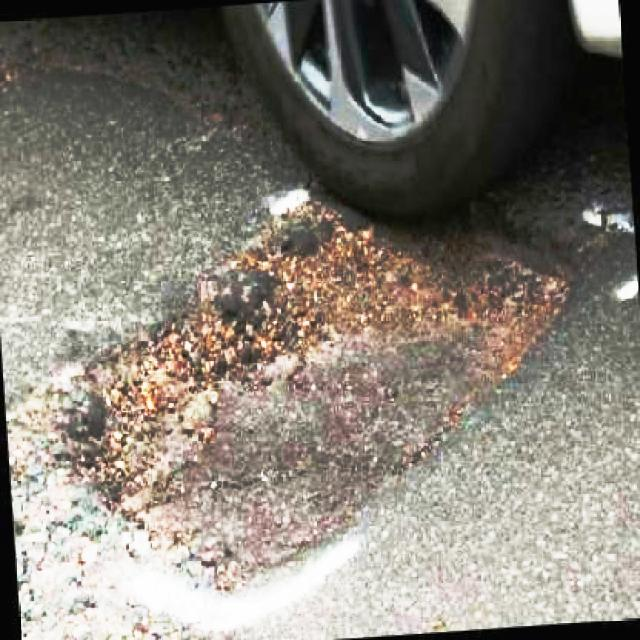pothole: (38, 171, 580, 595)
